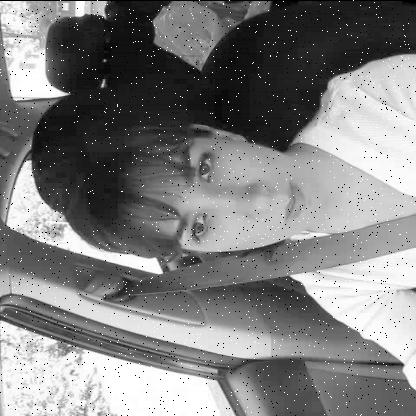seatbelt: (0, 88, 416, 281)
